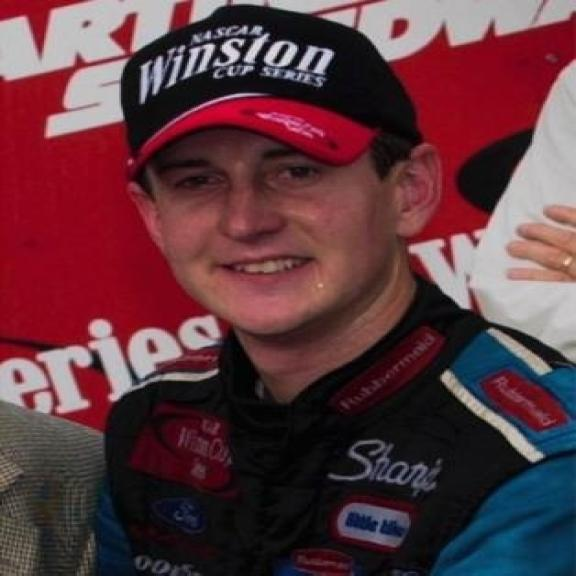face: (116, 37, 444, 344)
